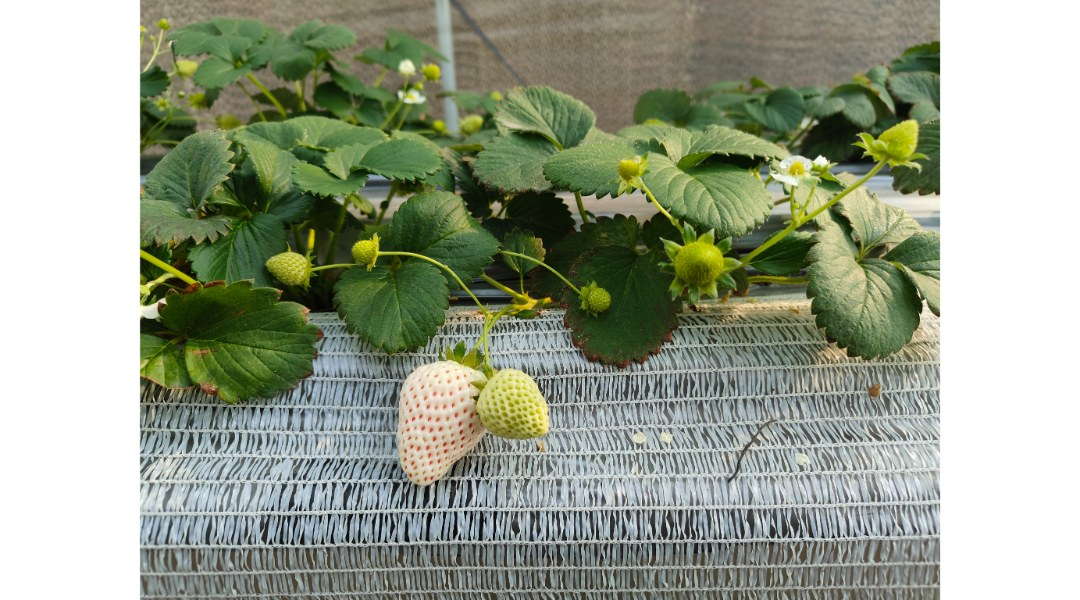berry: (395, 342, 494, 498), (655, 221, 740, 313), (474, 360, 558, 449), (856, 102, 934, 174), (259, 241, 320, 290), (611, 147, 658, 194), (342, 221, 384, 271), (572, 280, 622, 321)
flower: (758, 142, 827, 192)
strain: (752, 165, 880, 262), (377, 248, 489, 318), (506, 251, 580, 292), (631, 184, 686, 232), (786, 180, 795, 221), (805, 178, 815, 210)
